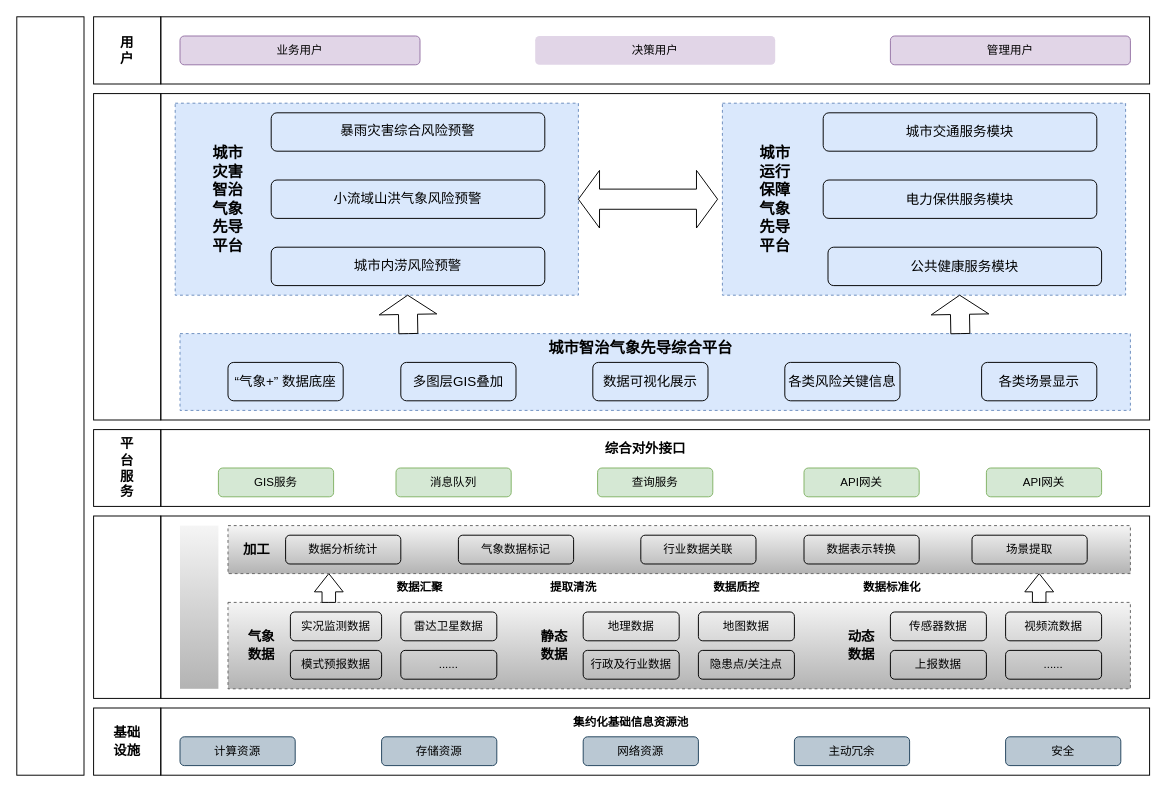
This 1166x792 diagram has some shape labels left out. Each missing label, with the box of its shape:
城 市 智 治 气 象 先 导 系 统: (16, 16, 84, 775)
应 用 平 台: (93, 93, 161, 420)
数 据 处 理: (93, 515, 161, 698)
数 据 归 集 加 工: (180, 525, 218, 688)
